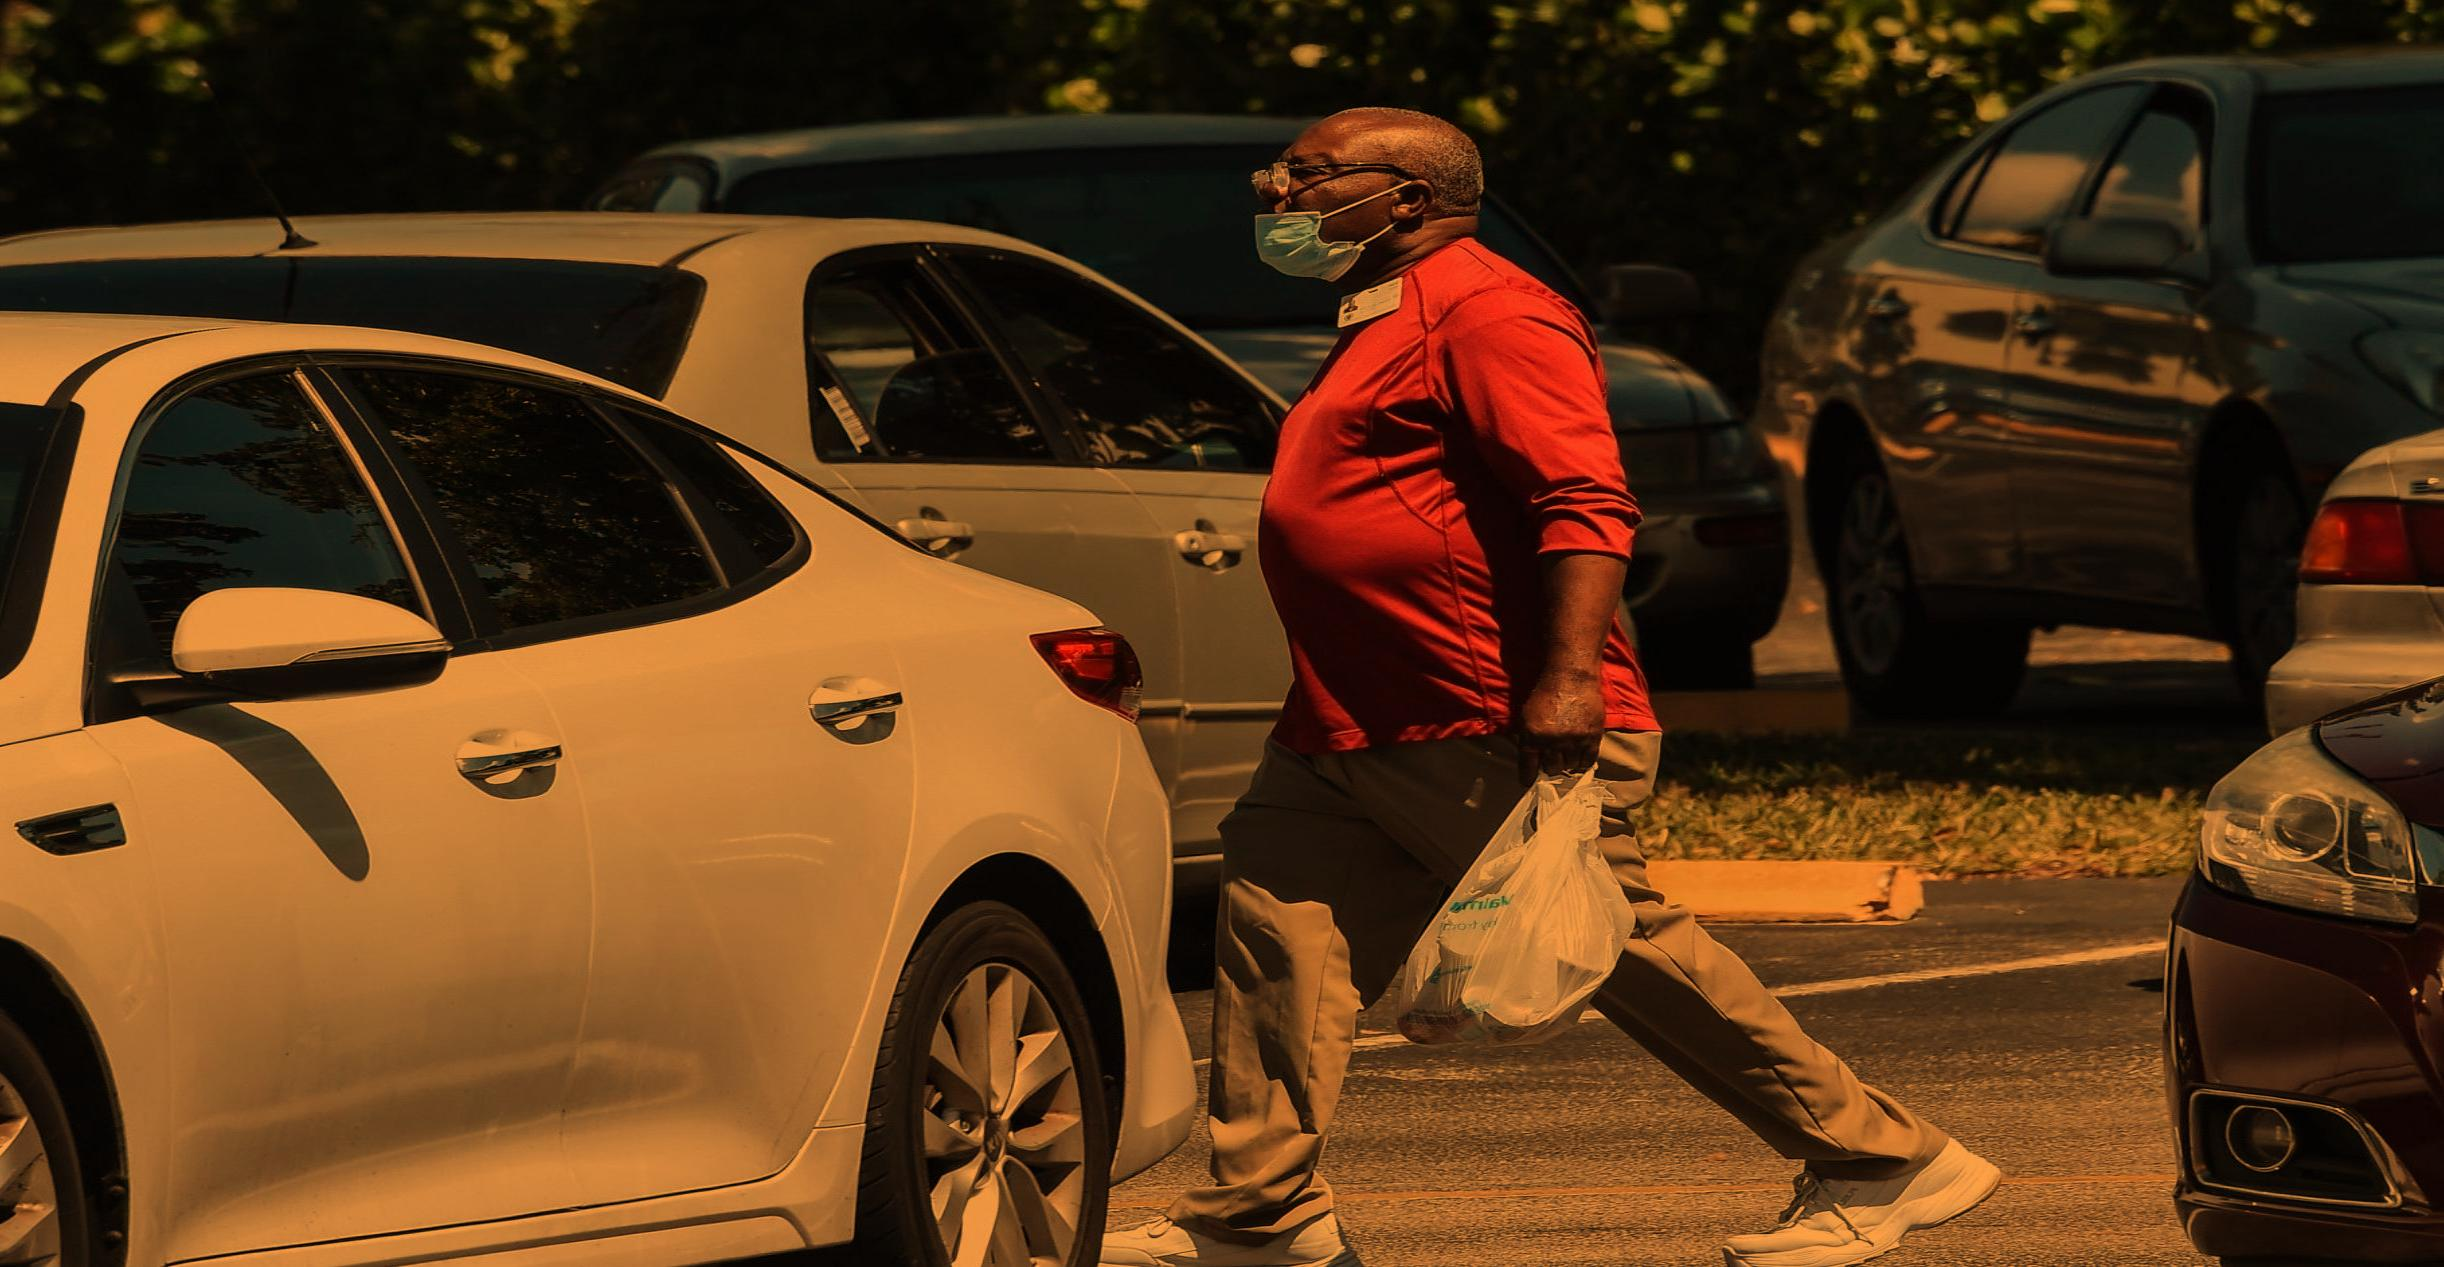mask_weared_incorrect: (1204, 98, 1454, 318), (1239, 106, 1500, 295)
